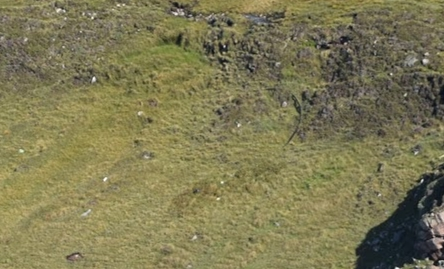tube: (284, 93, 306, 147)
